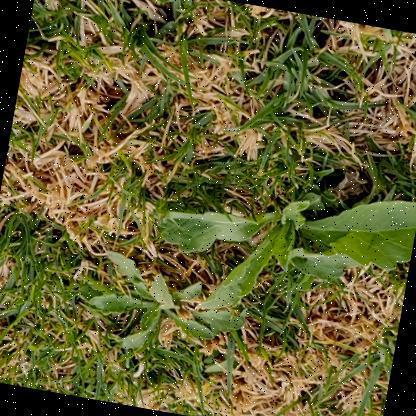Weeds: (141, 156, 415, 345), (67, 248, 251, 367)
